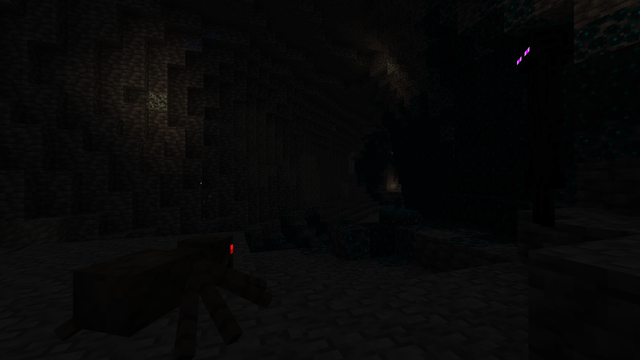araignees: (78, 226, 246, 357)
endermens: (508, 12, 579, 224)
